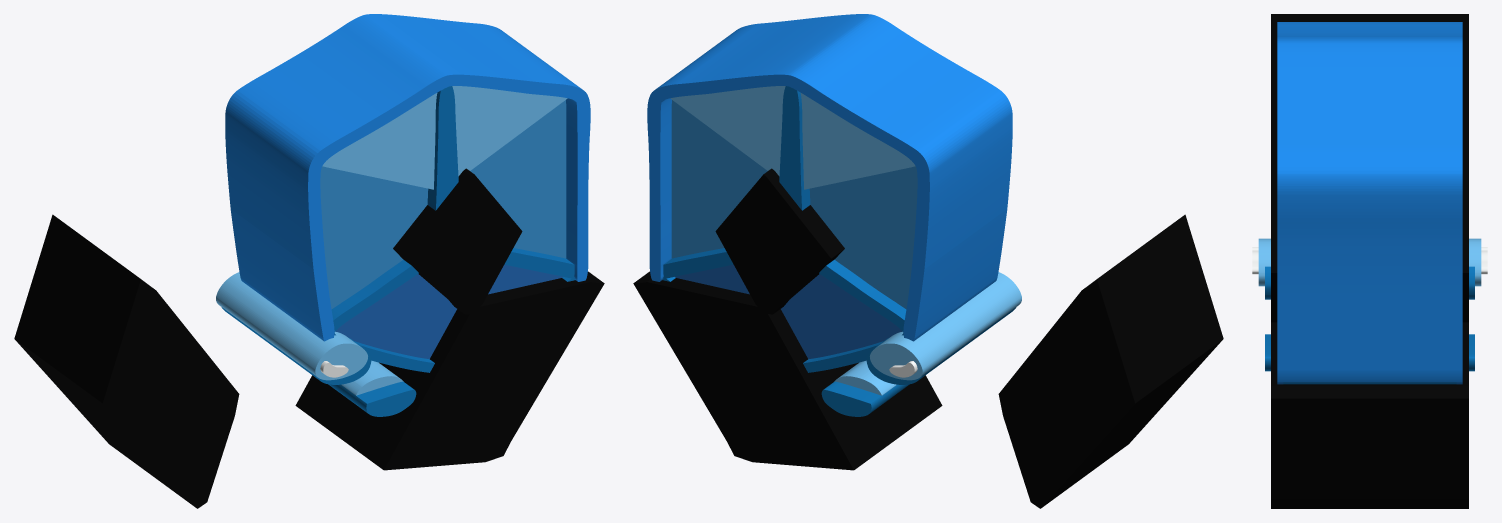
The picture shows the model from 3 angles, left to right: view 1: azimuth 30°, elevation 25°; view 2: azimuth 150°, elevation 25°; view 3: azimuth 270°, elevation 25°; orthographic projection. The views are drawn at different scales.
Parts seen in each view (by area): view 1: U+1F9CA_layer05_obj00, U+1F9CA_layer06_obj00, U+1F9CA_layer06_obj01, U+1F9CA_layer01_obj00, U+1F9CA_layer03_obj00, U+1F9CA_layer06_obj02, U+1F9CA_layer02_obj00, U+1F9CA_layer04_obj00, U+1F9CA_layer08_obj00, U+1F9CA_layer07_obj01, U+1F9CA_layer03_obj01, U+1F9CA_layer07_obj00; view 2: U+1F9CA_layer05_obj00, U+1F9CA_layer06_obj00, U+1F9CA_layer06_obj01, U+1F9CA_layer01_obj00, U+1F9CA_layer03_obj00, U+1F9CA_layer06_obj02, U+1F9CA_layer02_obj00, U+1F9CA_layer04_obj00, U+1F9CA_layer08_obj00, U+1F9CA_layer07_obj01, U+1F9CA_layer03_obj01, U+1F9CA_layer07_obj00; view 3: U+1F9CA_layer05_obj00, U+1F9CA_layer06_obj01, U+1F9CA_layer06_obj00, U+1F9CA_layer06_obj02, U+1F9CA_layer08_obj00, U+1F9CA_layer04_obj00, U+1F9CA_layer07_obj01, U+1F9CA_layer07_obj00, U+1F9CA_layer09_obj00.
Part boxes in pixels (x1,y1,x2,y2): U+1F9CA_layer05_obj00: [225, 14, 590, 341]; U+1F9CA_layer06_obj00: [14, 214, 239, 508]; U+1F9CA_layer06_obj01: [295, 271, 604, 470]; U+1F9CA_layer01_obj00: [320, 100, 566, 308]; U+1F9CA_layer03_obj00: [322, 86, 567, 189]; U+1F9CA_layer06_obj02: [393, 168, 522, 314]; U+1F9CA_layer02_obj00: [335, 264, 562, 358]; U+1F9CA_layer04_obj00: [331, 86, 575, 372]; U+1F9CA_layer08_obj00: [216, 272, 367, 380]; U+1F9CA_layer07_obj01: [328, 381, 416, 416]; U+1F9CA_layer03_obj01: [341, 360, 403, 395]; U+1F9CA_layer07_obj00: [221, 307, 371, 384]; U+1F9CA_layer05_obj00: [647, 14, 1012, 341]; U+1F9CA_layer06_obj00: [998, 214, 1223, 508]; U+1F9CA_layer06_obj01: [633, 271, 942, 470]; U+1F9CA_layer01_obj00: [671, 100, 917, 308]; U+1F9CA_layer03_obj00: [670, 86, 915, 189]; U+1F9CA_layer06_obj02: [715, 168, 844, 314]; U+1F9CA_layer02_obj00: [675, 264, 902, 358]; U+1F9CA_layer04_obj00: [662, 86, 906, 372]; U+1F9CA_layer08_obj00: [870, 272, 1021, 380]; U+1F9CA_layer07_obj01: [821, 381, 909, 416]; U+1F9CA_layer03_obj01: [834, 360, 896, 395]; U+1F9CA_layer07_obj00: [866, 307, 1016, 384]; U+1F9CA_layer05_obj00: [1277, 22, 1462, 384]; U+1F9CA_layer06_obj01: [1271, 322, 1468, 508]; U+1F9CA_layer06_obj00: [1271, 14, 1468, 170]; U+1F9CA_layer06_obj02: [1271, 170, 1468, 322]; U+1F9CA_layer08_obj00: [1258, 238, 1481, 286]; U+1F9CA_layer04_obj00: [1283, 382, 1456, 384]; U+1F9CA_layer07_obj01: [1265, 334, 1474, 371]; U+1F9CA_layer07_obj00: [1265, 266, 1474, 299]; U+1F9CA_layer09_obj00: [1252, 247, 1487, 274].
Bounding box in the file's own units: 0.5244 × 0.3926 × 0.19.
